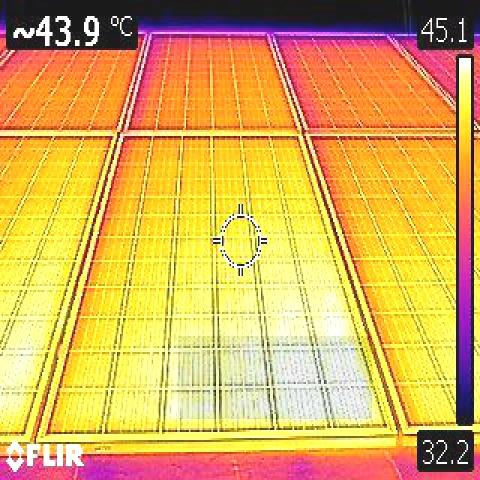fault: (178, 336, 372, 419)
